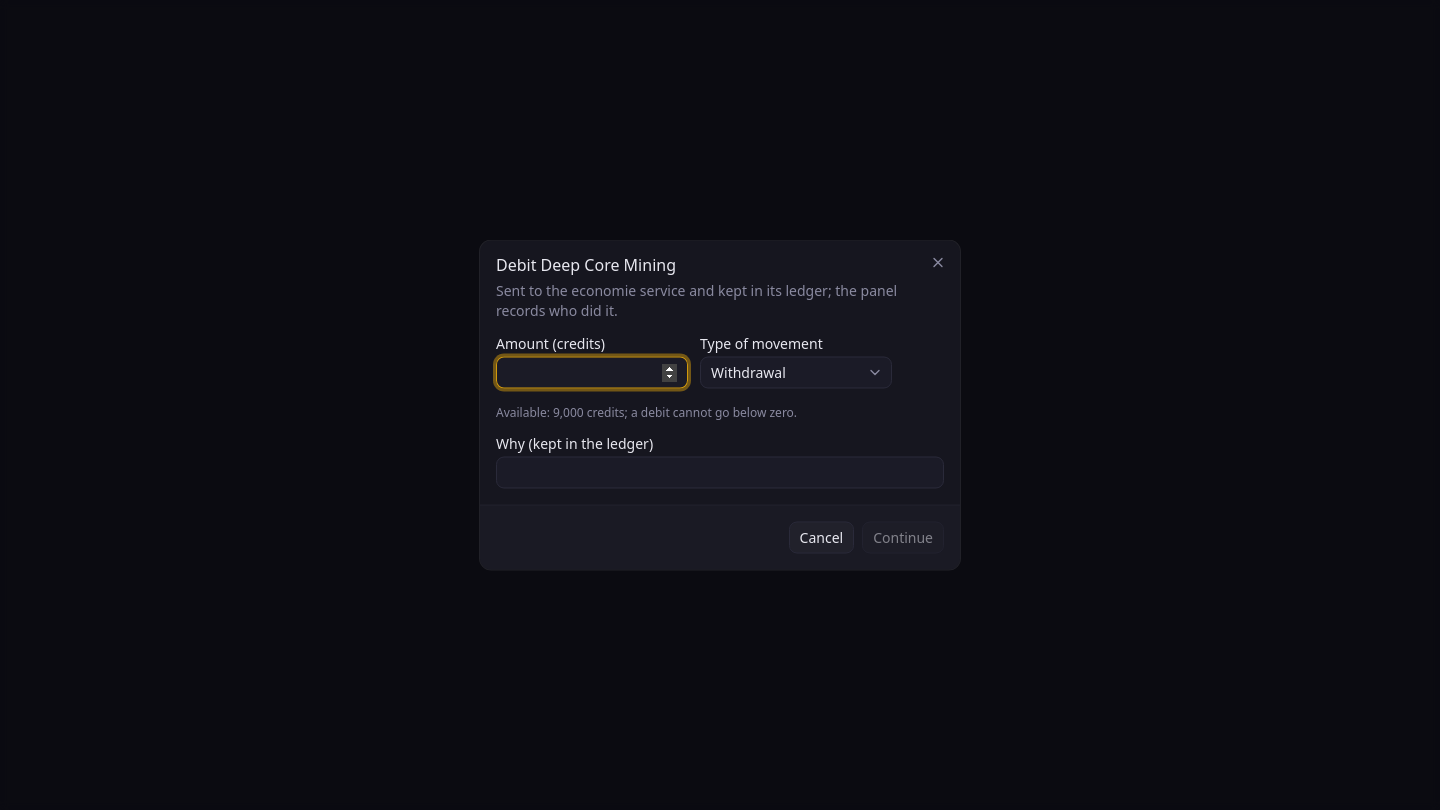
it: MoneyMovementDialog › refuses to debit more than the balance
Type "Fine" into the field labelled "Why (kept in the ledger)".
click(720, 472); type("Fine")  # box [496,456,944,488]
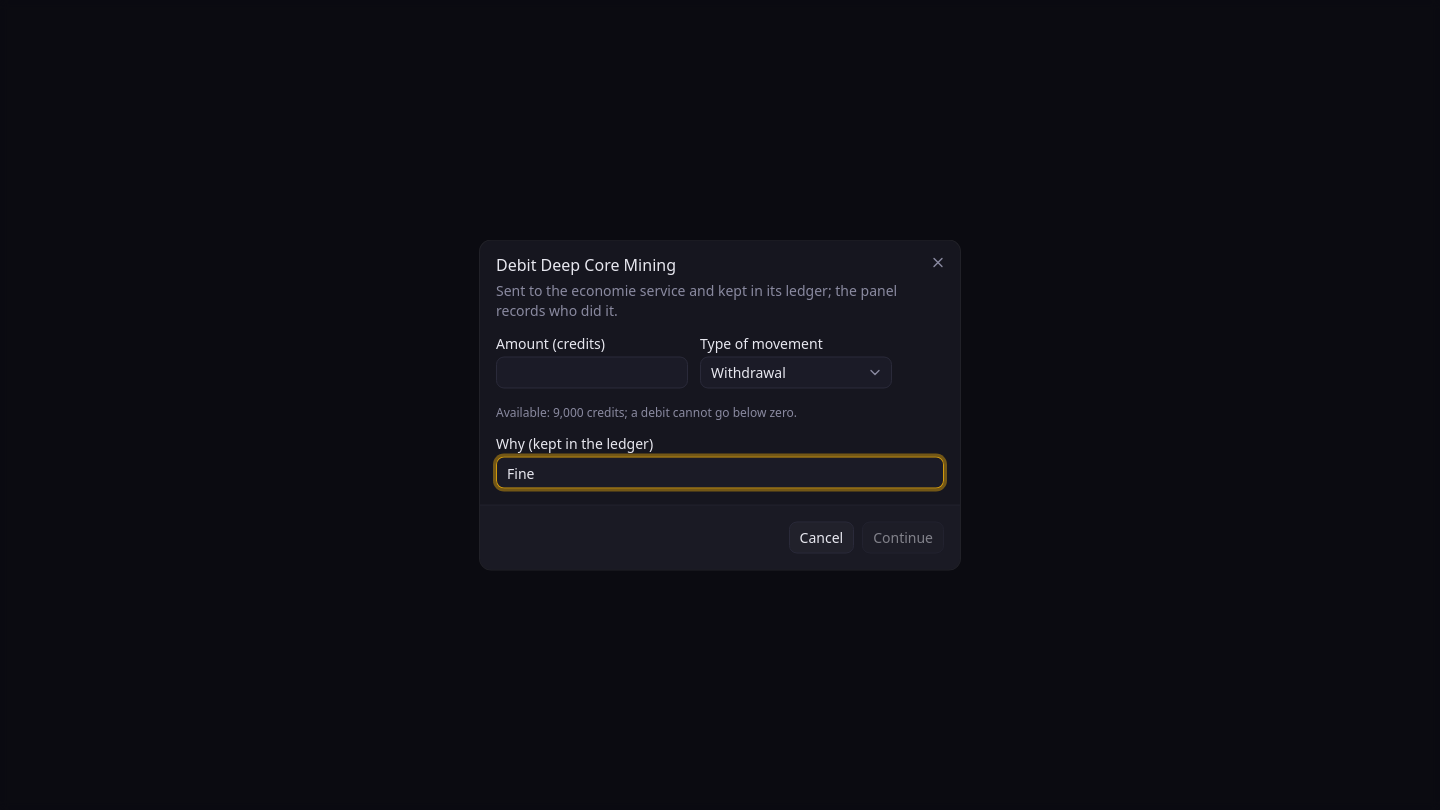
Type "9001" into the number field labelled "Amount (credits)".
click(592, 372); type("9001")  # box [496,356,688,388]
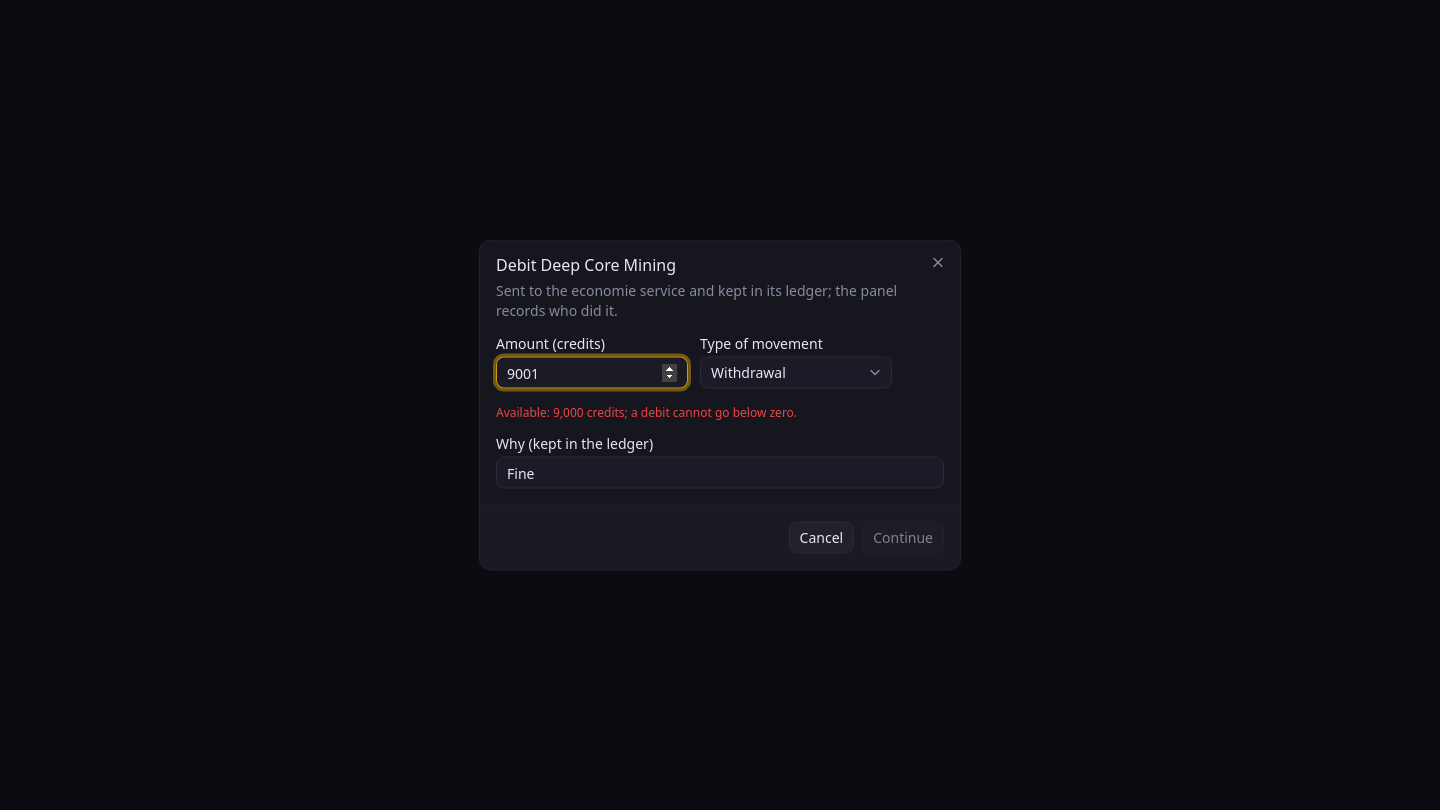
Expected: the button "Continue" is disabled, [862,522,944,554]
Result: the text "Available: 9,000 credits; a debit cannot go below zero." has class "text-destructive" at [496,404,797,420]
Replace the text in the number field labelled "Amount (credits)" with "9000" at (592, 372), box [496,356,688,388]
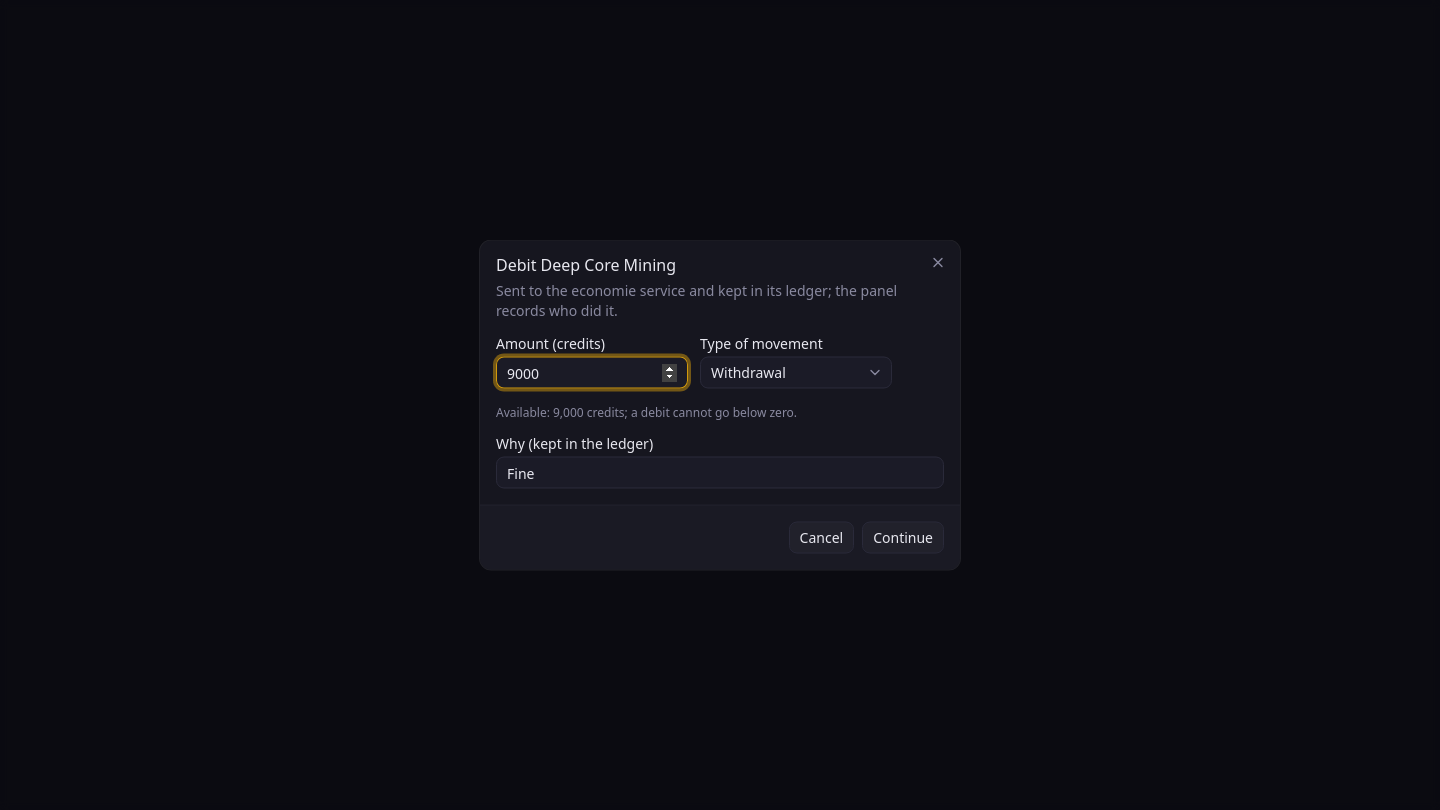
Click the button "Continue".
click(903, 538)  # box [862,522,944,554]
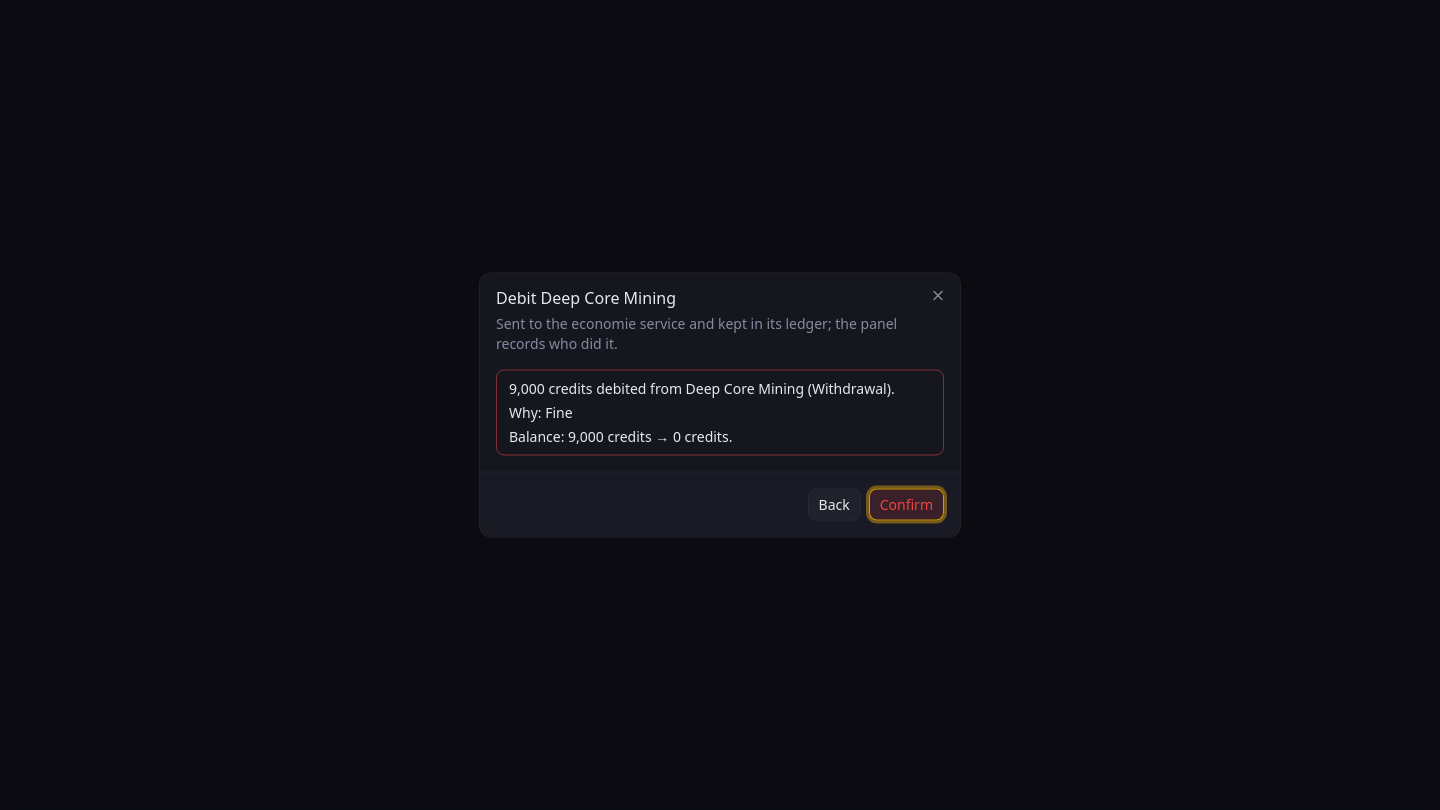
Expected: the message shows "(Withdrawal)", [509,378,895,398]
Result: the message shows "→ 0 credits" at [509,426,732,446]
